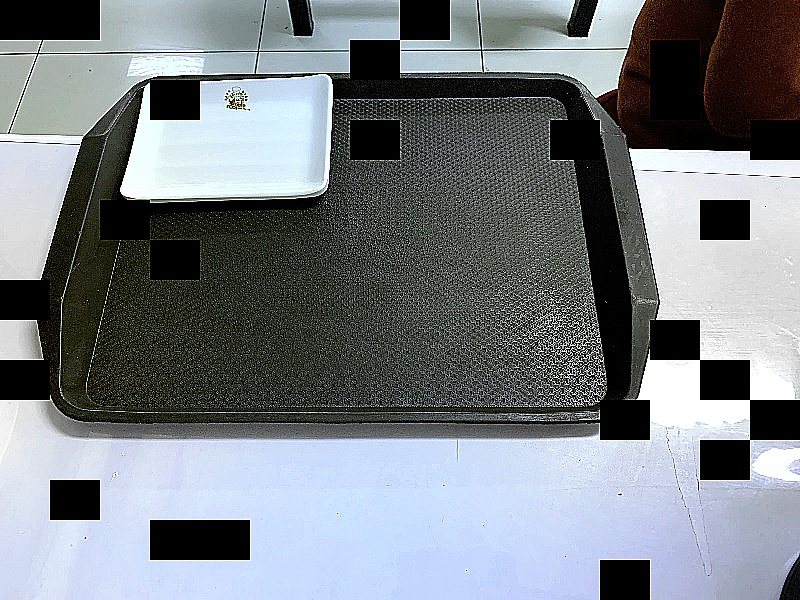dish4: (112, 69, 343, 212)
